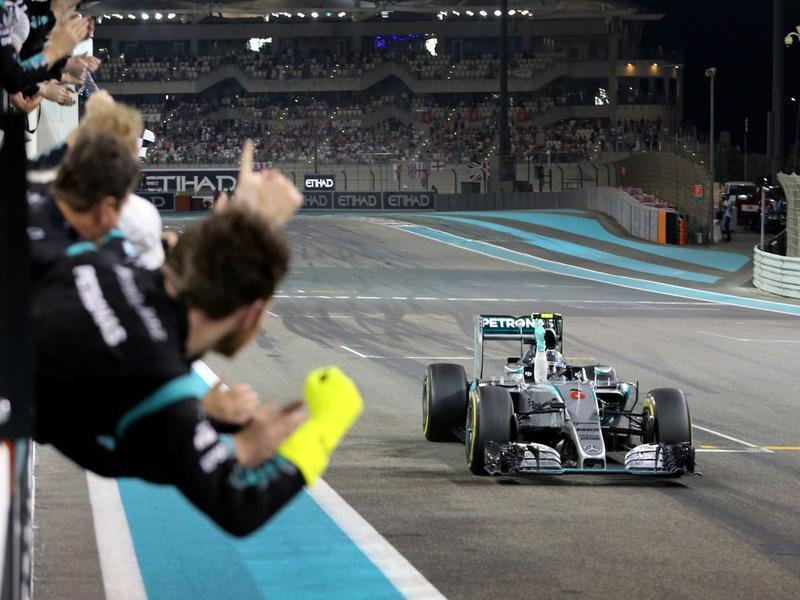f1: (403, 292, 717, 525)
